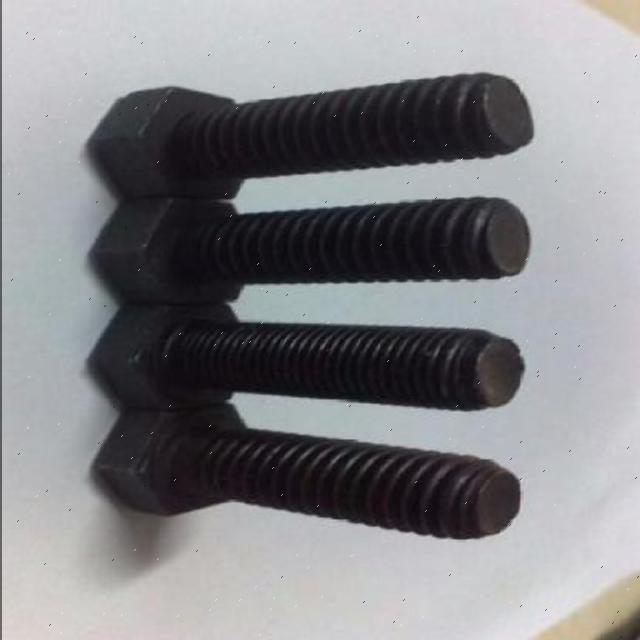Bolt: (91, 404, 523, 544), (87, 67, 530, 195), (86, 298, 523, 412), (88, 192, 530, 303)
